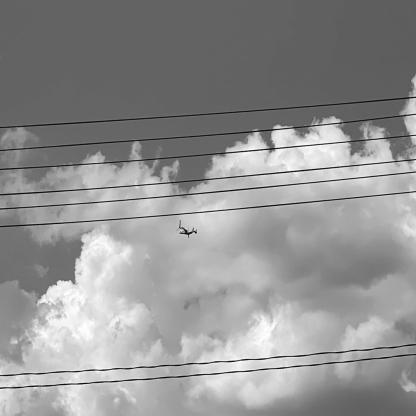V22: (177, 221, 199, 240)
